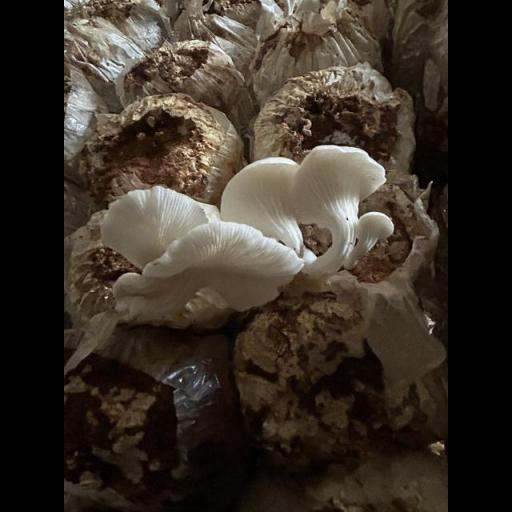White Oyster Mushroom: (93, 138, 400, 311)
